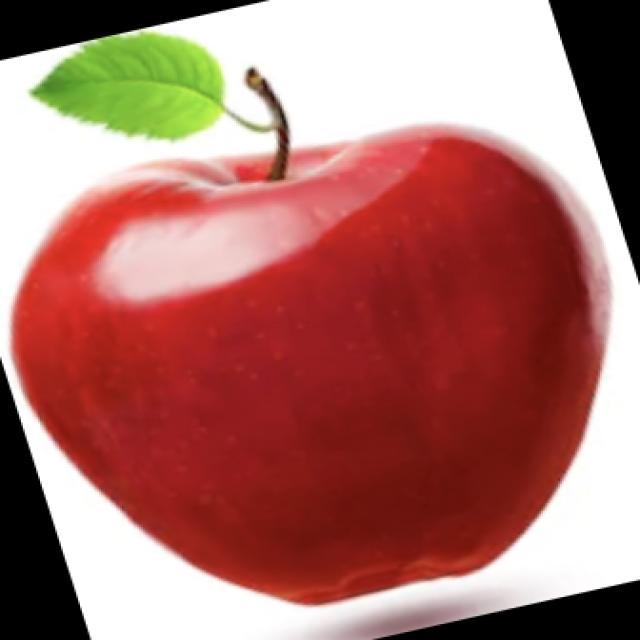Fresh Apple: (10, 137, 593, 598)
